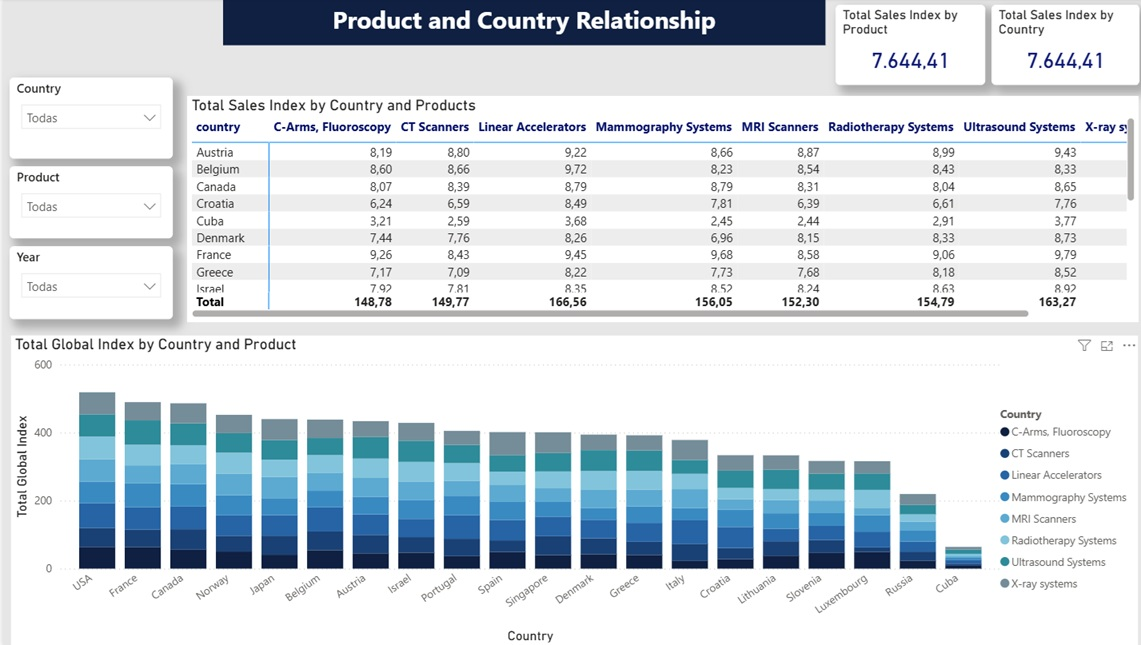

The dashboard page shown, as its layout file describes it:
{"tool":"powerbi","page":{"name":"Page 4","canvas":[1280,720],"ordinal":4},"visuals":[{"type":"textbox","box":[243.8,0,667.7,52.3],"z":0},{"type":"slicer","title":"Country","fields":{"Values":["Countries.country"]},"box":[7.5,87.8,181.1,89.6],"z":1000},{"type":"slicer","title":"Product","fields":{"Values":["Products.product_name"]},"box":[7.5,185.8,181.1,80.3],"z":2000},{"type":"slicer","title":"Year","fields":{"Values":["Results.year"]},"box":[7.5,274.5,181.1,81.2],"z":3000},{"type":"card","title":"Total Sales Index by Product","fields":{"Values":["_Metrics.Total Sales Index by Product"]},"box":[923.4,7.5,166.2,88.7],"z":4000},{"type":"card","title":"Total Sales Index by Country","fields":{"Values":["_Metrics.Total Global Sales Index by Country"]},"box":[1096,7.1,164.9,88.7],"z":5000},{"type":"pivotTable","title":"Total Sales Index by Country and Products","fields":{"Rows":["Countries.country"],"Columns":["Products.product_name"],"Values":["_Metrics.Total Annual Sales Index"]},"box":[204,108.2,1056.1,251.4],"z":6000},{"type":"columnChart","title":"Total Global Index by Country and Product","fields":{"Category":["Countries.country"],"Y":["_Metrics.Global Sales Index"],"Series":["Products.product_name"]},"box":[7.6,372.9,1252.5,346.3],"z":7000}]}

Visuals, with their boxes in screenshot pixels (x1, y1, x2, y2), scaled from the page's 1280x720 canvas onto the 1141x645 screenshot:
textbox: left=217, top=0, right=813, bottom=47
"Country" slicer: left=7, top=79, right=168, bottom=159
"Product" slicer: left=7, top=166, right=168, bottom=238
"Year" slicer: left=7, top=246, right=168, bottom=319
"Total Sales Index by Product" card: left=823, top=7, right=971, bottom=86
"Total Sales Index by Country" card: left=977, top=6, right=1124, bottom=86
"Total Sales Index by Country and Products" pivotTable: left=182, top=97, right=1123, bottom=322
"Total Global Index by Country and Product" columnChart: left=7, top=334, right=1123, bottom=644
